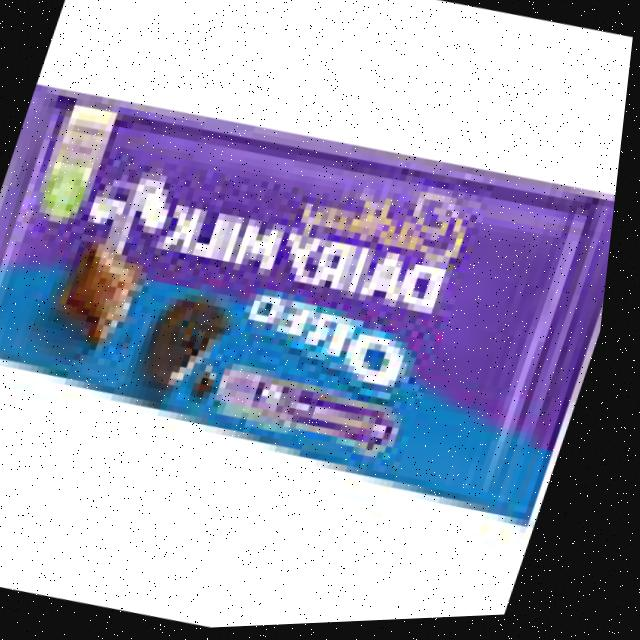cadbury: (0, 59, 633, 557)
